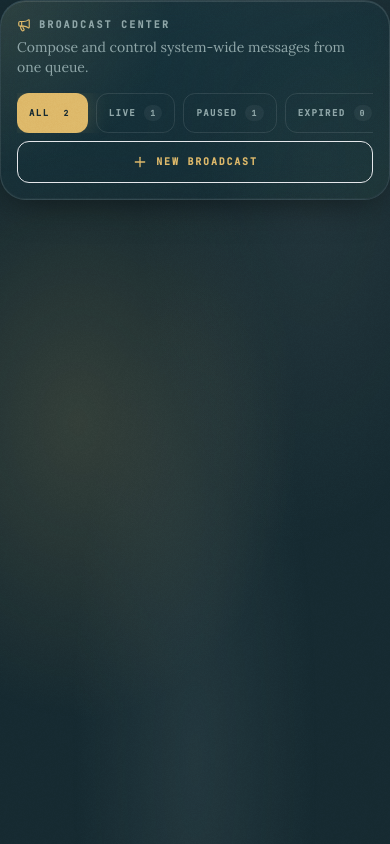
Scenario: BroadcastsTab › filters broadcasts by operational status
Click the button "Paused 1" at coordinates (230, 113), box x1=183 y1=93 x2=277 y2=133
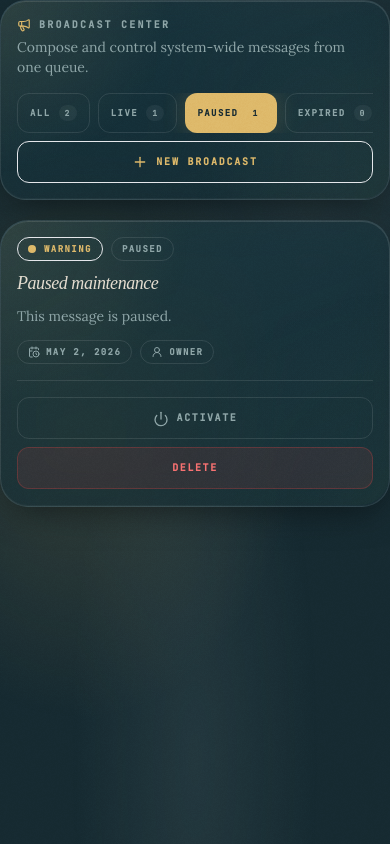
Expected: the heading "Paused maintenance" is shown, x1=17 y1=273 x2=158 y2=293
